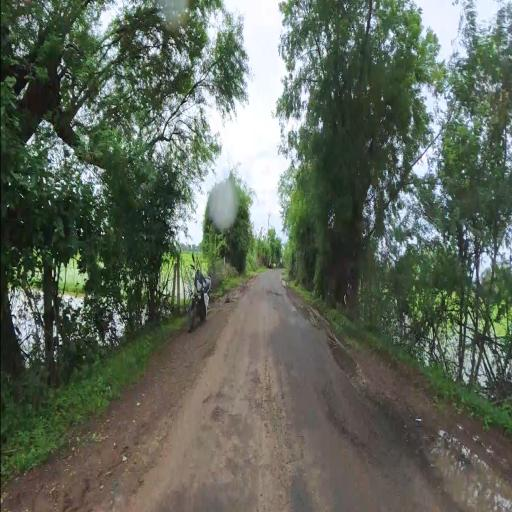ravelling: (205, 346, 315, 511)
